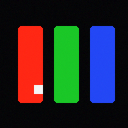1 square: (34, 85, 42, 93)
